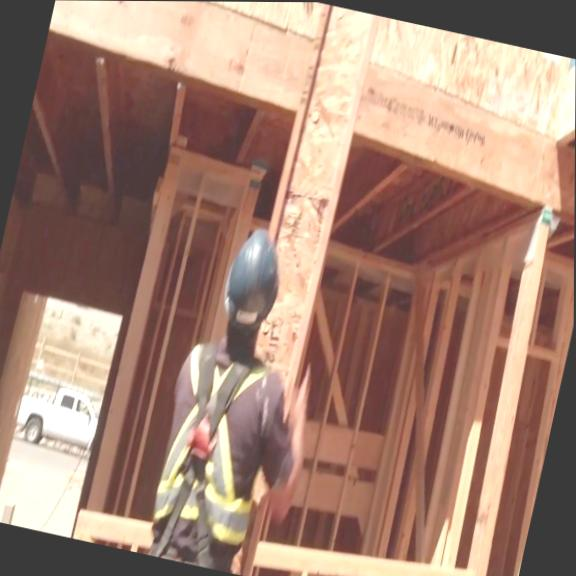safety_vest: (146, 336, 285, 548)
